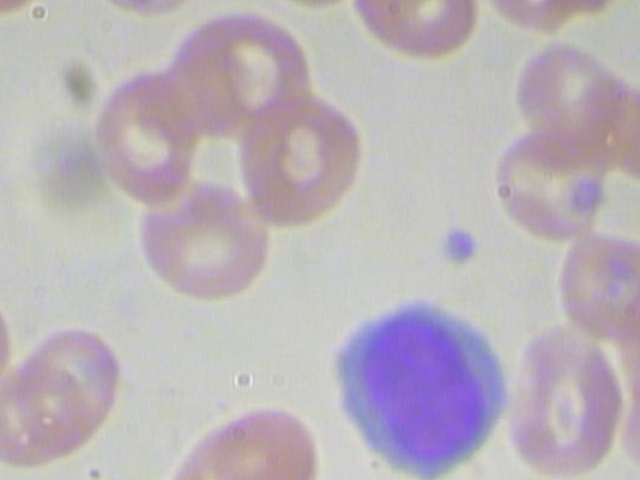Platelets: (431, 219, 485, 268)
RBC: (495, 324, 627, 478), (227, 92, 367, 230), (132, 169, 273, 299), (491, 120, 617, 245), (13, 316, 126, 452), (88, 69, 201, 202), (158, 399, 321, 480), (555, 228, 640, 340), (348, 0, 483, 66), (621, 353, 640, 479)
WBC: (317, 293, 524, 480)
